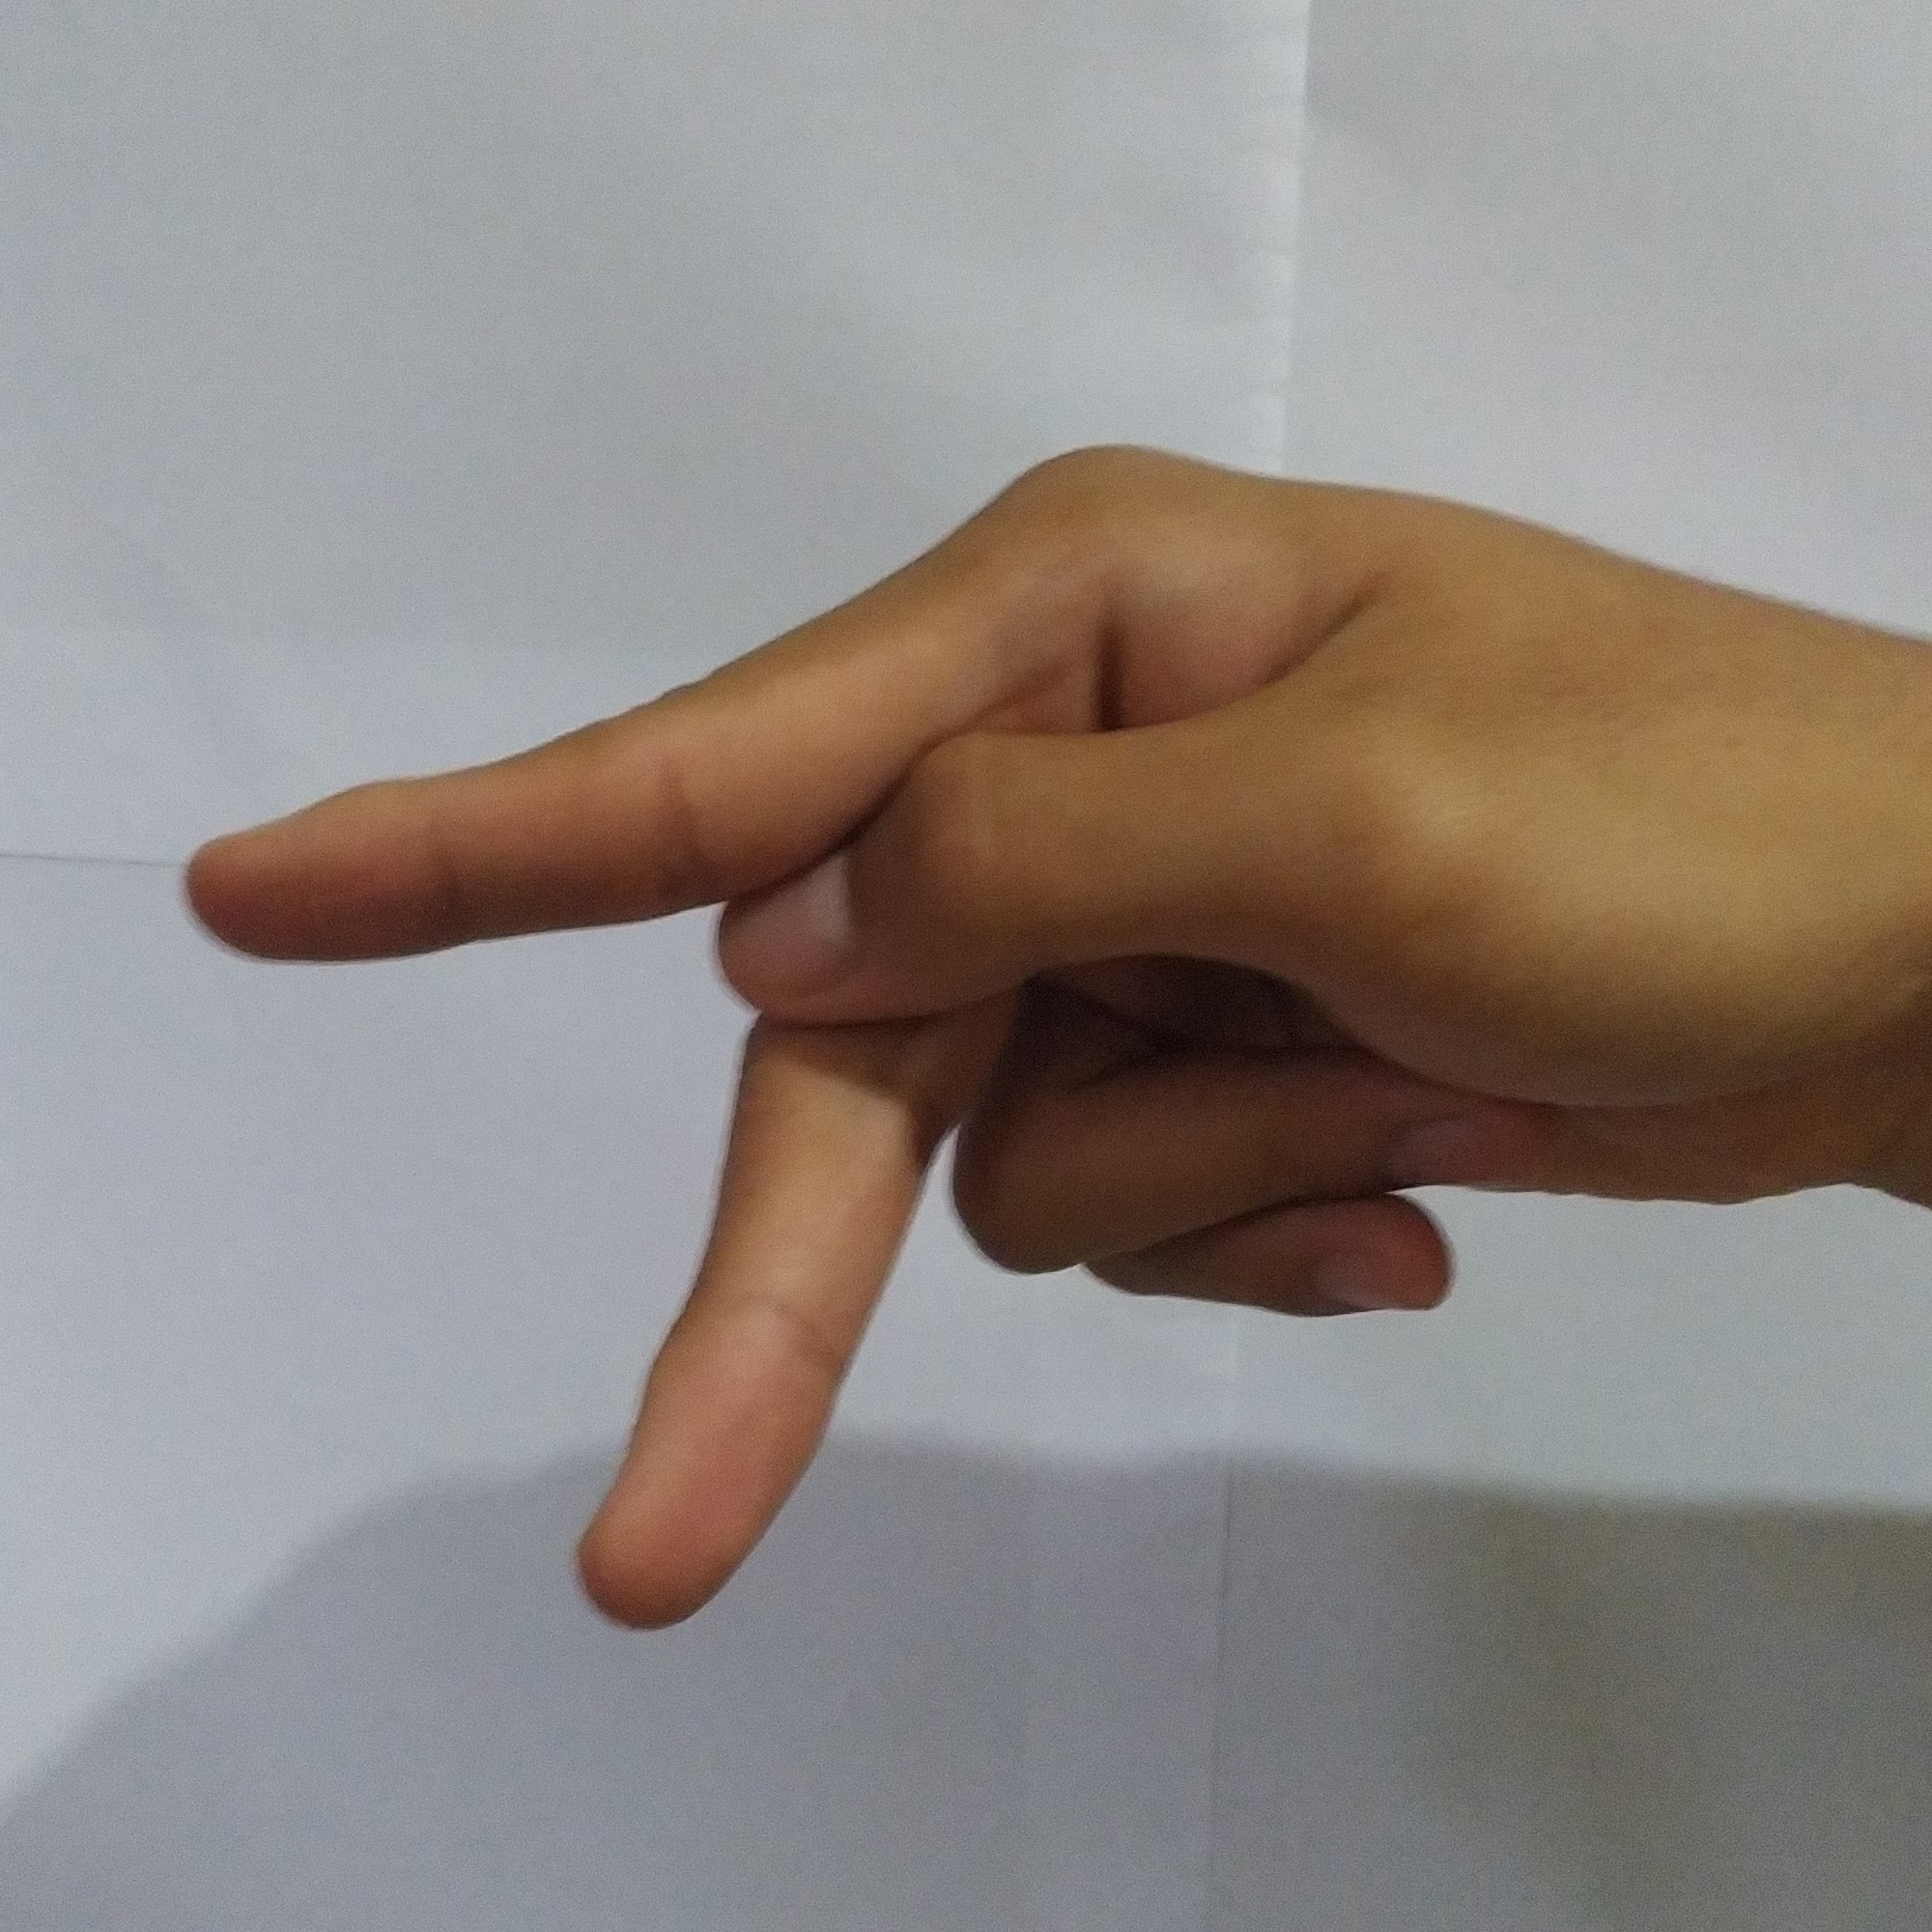P: (152, 419, 1881, 1661)
